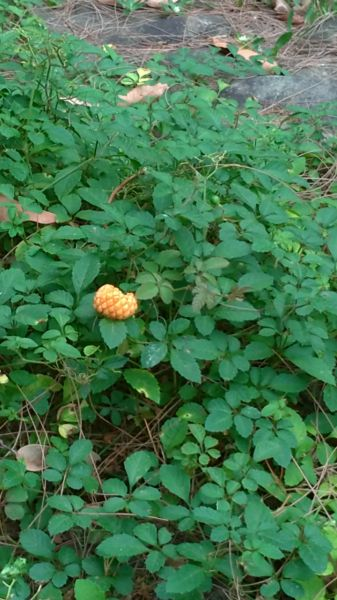eggs: (88, 282, 144, 324)
